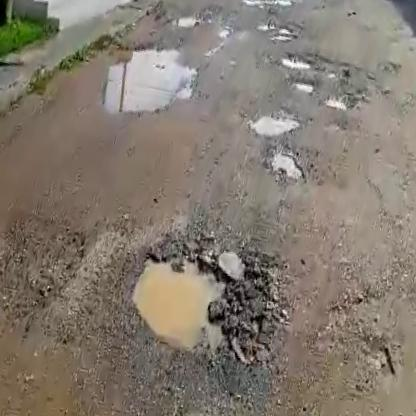pothole: (114, 227, 271, 368), (98, 32, 206, 127), (255, 139, 318, 187), (241, 103, 301, 145), (258, 16, 304, 43), (279, 48, 324, 73), (167, 7, 199, 32), (321, 94, 349, 116), (288, 75, 317, 92)
